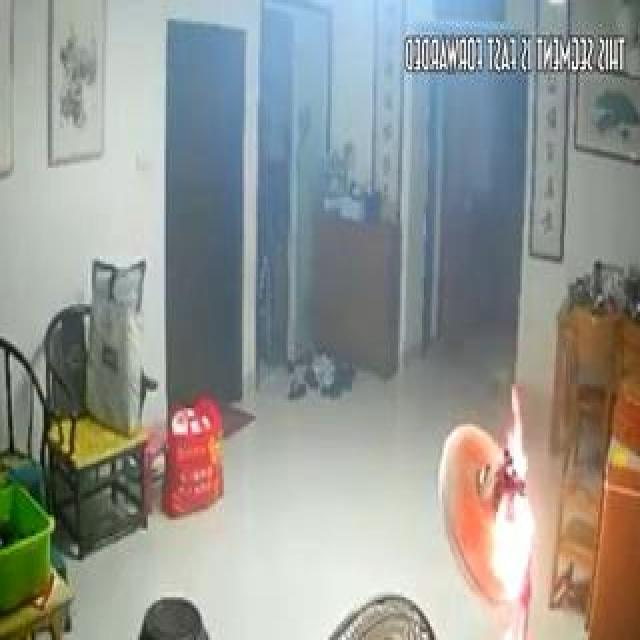Fire: (466, 367, 540, 630)
